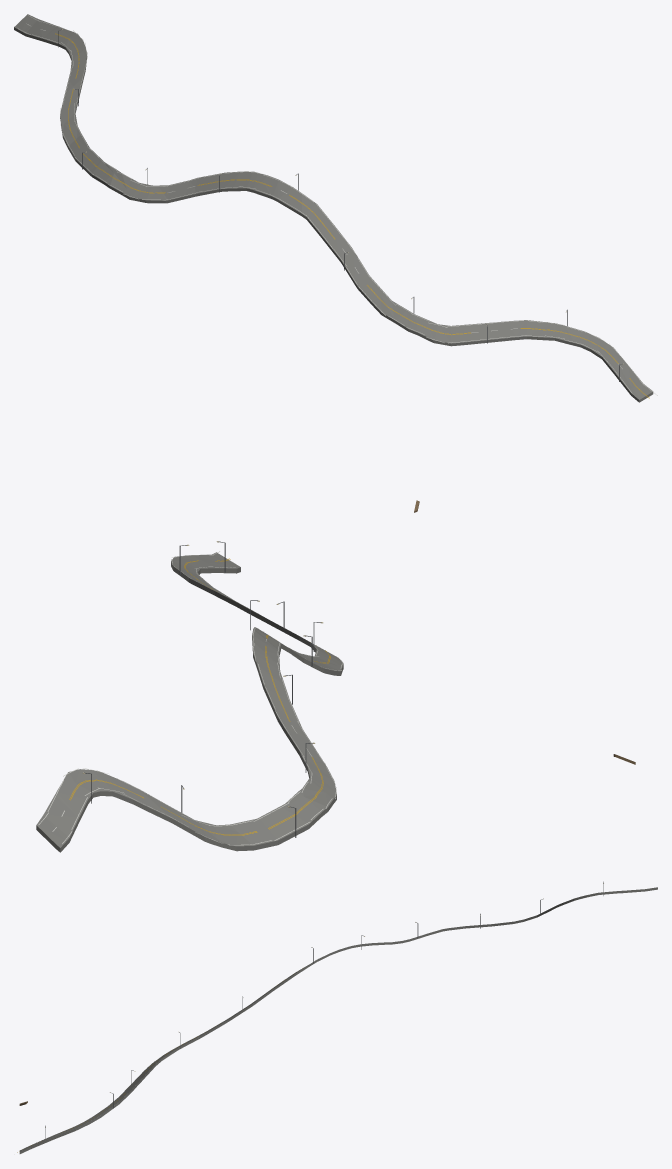
3 renders of one model, top to bottom at view 1: azimuth 30°, elevation 25°; view 2: azimuth 150°, elevation 25°; view 3: azimuth 270°, elevation 25°, orthographic. The views are drawn at different scales.
Bounding box in the file's own units: 143 × 108 × 294.
